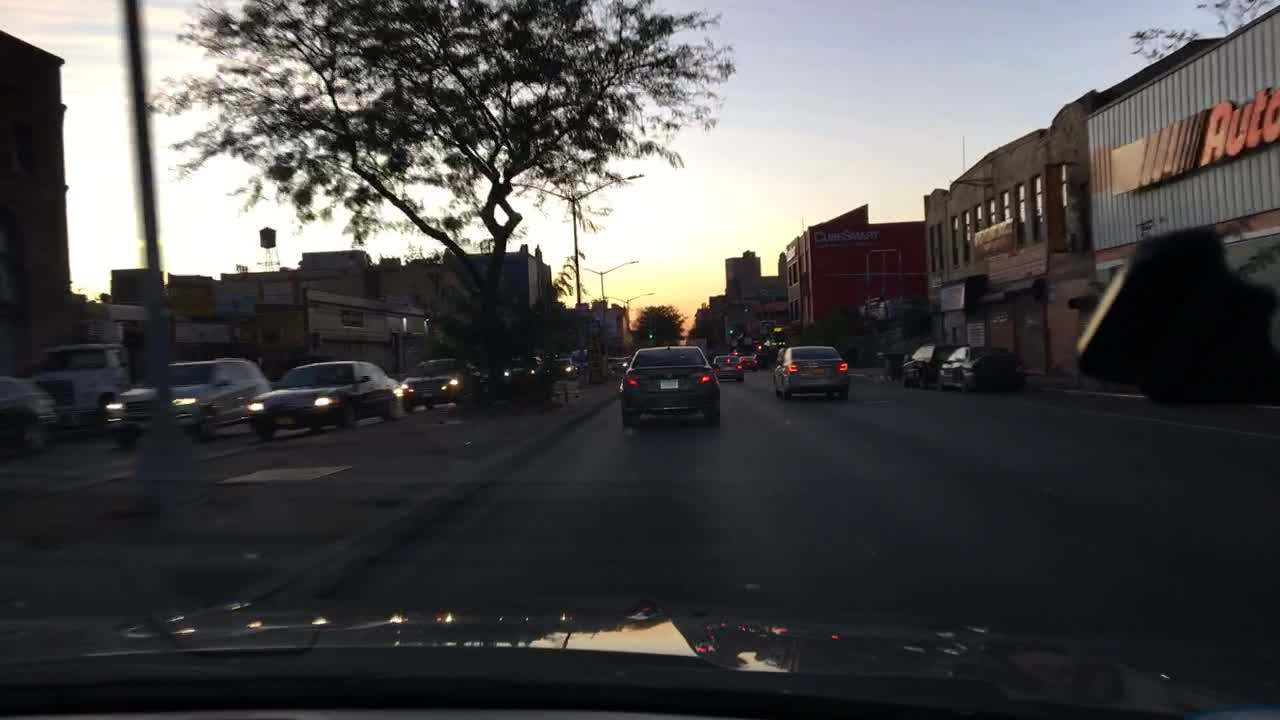car: (111, 358, 269, 446), (246, 359, 403, 442), (25, 345, 131, 435), (619, 342, 722, 429), (397, 355, 484, 414), (0, 375, 61, 459), (935, 344, 1029, 395), (770, 345, 851, 398), (898, 340, 966, 389), (501, 352, 548, 388), (712, 354, 746, 383), (586, 348, 611, 377), (553, 355, 578, 380), (604, 356, 630, 377), (572, 348, 590, 374), (752, 352, 772, 368), (740, 355, 759, 368), (707, 352, 726, 361), (730, 349, 750, 357)
traffic light: (727, 322, 735, 339), (648, 327, 655, 343)
traffic sign: (742, 335, 753, 348), (772, 326, 783, 333)
